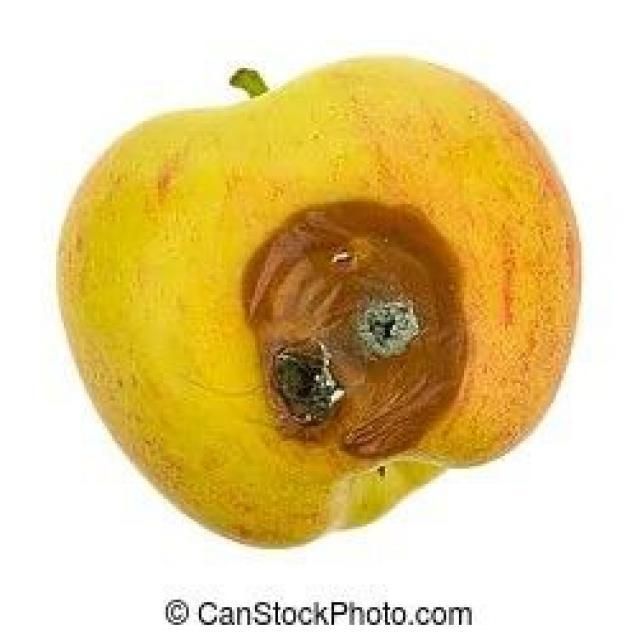Rotten: (46, 67, 566, 548)
